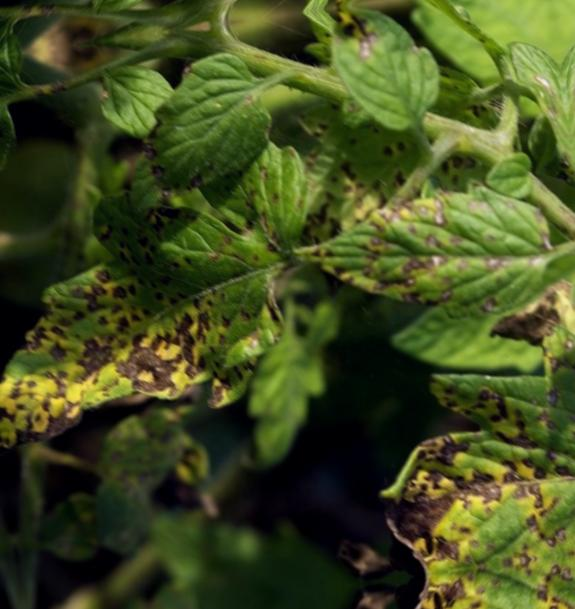Tomato Septoria leaf spot: (0, 189, 292, 465), (373, 292, 575, 577), (285, 177, 567, 345)
